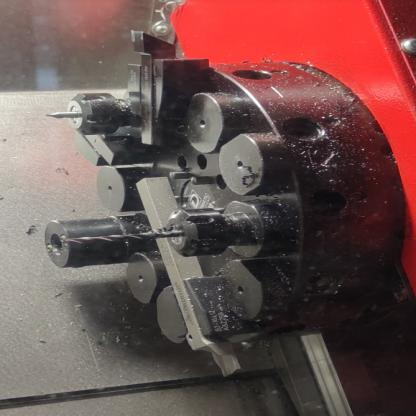bit: (129, 172, 276, 379), (118, 24, 218, 153), (65, 120, 135, 173)
